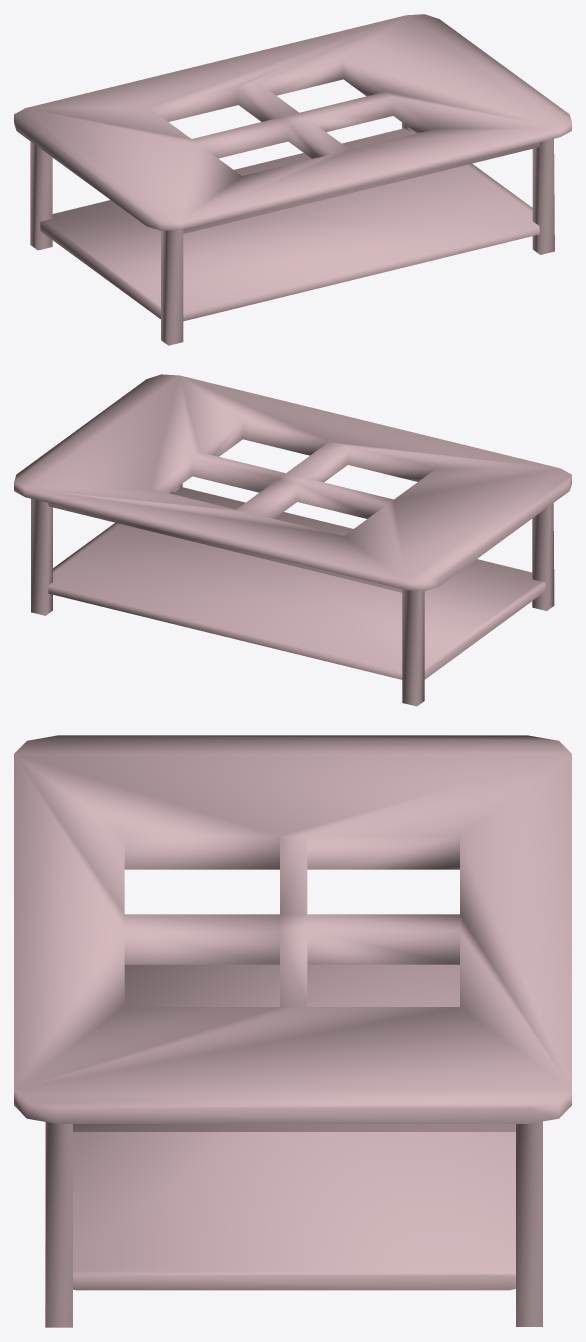
Rendered from tablework1.fbx.
3 renders of one model, top to bottom at view 1: azimuth 30°, elevation 25°; view 2: azimuth 150°, elevation 25°; view 3: azimuth 270°, elevation 25°, orthographic. The views are drawn at different scales.
Visible parts, largest first — view 1: ref; view 2: ref; view 3: ref.
Boxes of the visible parts, bbox=[...] form: ref: bbox=[14, 14, 571, 345]; ref: bbox=[14, 374, 571, 706]; ref: bbox=[14, 735, 571, 1327].
Size of the model in its own units: 303 by 89.29 by 192.
